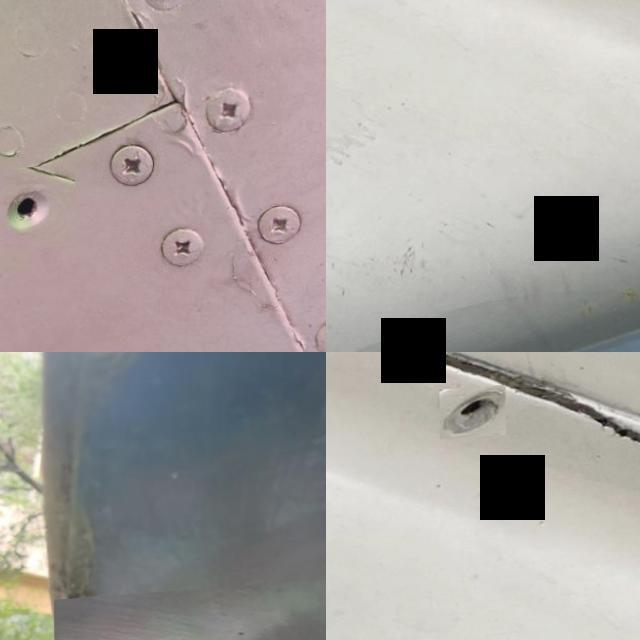Crack: (528, 363, 640, 511)
Dent: (53, 579, 326, 640)
Missing_Fastener: (0, 168, 74, 254), (440, 389, 506, 443)
